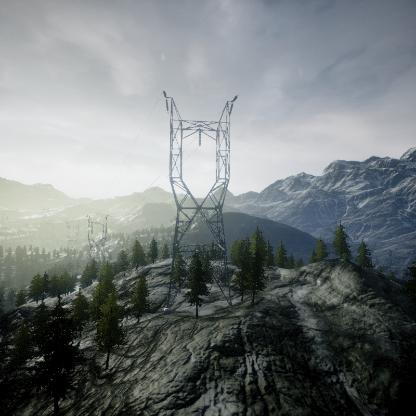tower: (160, 88, 241, 316), (85, 214, 109, 270)
